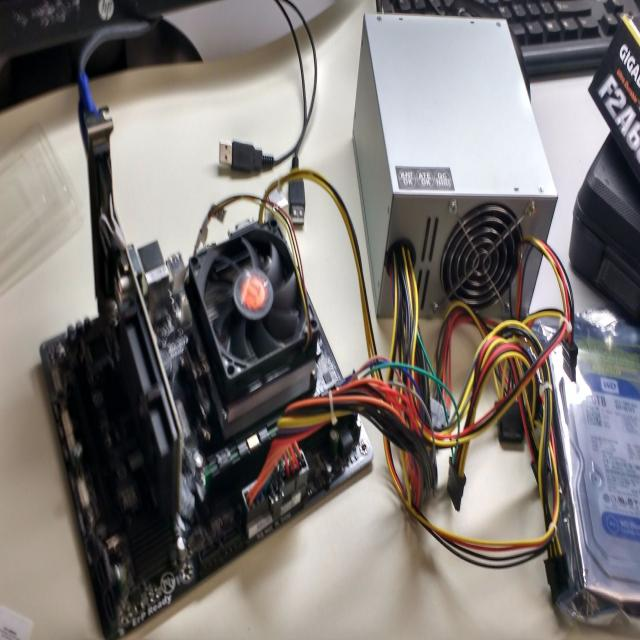electronics: (40, 111, 372, 638), (41, 303, 372, 636), (385, 238, 577, 590), (353, 15, 556, 316), (0, 0, 287, 108), (551, 311, 640, 625), (185, 226, 316, 437), (0, 0, 200, 108), (569, 15, 640, 319), (377, 0, 638, 75), (188, 229, 305, 376), (0, 0, 286, 59), (219, 0, 317, 172), (219, 0, 316, 172), (80, 107, 150, 329), (0, 126, 83, 296), (569, 135, 640, 319), (0, 0, 205, 57), (589, 15, 640, 180), (77, 20, 162, 114), (164, 0, 287, 60), (241, 453, 309, 537), (271, 324, 341, 396), (132, 242, 172, 321), (219, 140, 300, 172), (219, 140, 274, 172), (497, 403, 524, 446), (0, 606, 33, 638), (446, 460, 466, 511), (523, 255, 540, 308), (561, 332, 578, 380), (288, 181, 305, 226), (288, 181, 305, 225), (296, 0, 335, 19), (288, 181, 304, 223), (297, 0, 333, 18), (297, 0, 332, 18), (330, 430, 355, 454), (429, 398, 447, 428), (289, 191, 304, 222), (298, 111, 309, 140), (561, 272, 572, 300), (172, 287, 184, 303), (240, 391, 254, 403), (560, 311, 574, 321), (515, 277, 521, 299), (284, 354, 295, 363), (80, 92, 85, 107), (167, 257, 179, 263), (153, 348, 159, 359), (291, 14, 297, 24), (345, 430, 352, 437), (311, 313, 315, 325), (564, 302, 571, 308), (404, 375, 412, 380), (247, 228, 256, 232), (416, 423, 424, 427), (165, 41, 171, 46), (293, 18, 297, 23), (397, 363, 402, 367), (162, 377, 165, 383), (332, 430, 338, 433), (276, 360, 280, 364), (187, 274, 191, 278), (301, 75, 303, 83), (312, 43, 314, 50), (293, 162, 296, 166), (425, 420, 428, 424), (176, 265, 179, 268), (525, 252, 528, 255), (375, 383, 379, 385), (208, 248, 215, 249), (548, 565, 549, 571), (568, 320, 571, 322), (307, 117, 309, 120), (300, 348, 302, 350), (267, 385, 268, 388), (412, 383, 413, 386), (4, 131, 6, 132), (187, 268, 188, 270), (276, 460, 277, 462), (424, 412, 425, 414), (423, 407, 425, 408), (518, 313, 519, 315), (529, 400, 530, 401), (249, 0, 250, 1), (314, 89, 314, 91), (434, 425, 434, 427)
fans: (194, 79, 576, 568), (247, 238, 572, 568), (193, 194, 312, 344), (220, 0, 317, 172), (79, 23, 149, 113), (276, 0, 314, 62), (279, 169, 337, 204), (337, 201, 352, 230), (363, 287, 370, 328), (296, 39, 303, 76), (103, 216, 114, 233), (260, 203, 268, 219), (356, 257, 361, 280), (516, 278, 521, 299), (288, 20, 294, 35), (267, 183, 275, 193), (353, 242, 356, 254), (301, 191, 303, 206), (273, 159, 276, 164), (349, 233, 351, 236), (353, 235, 354, 238)
